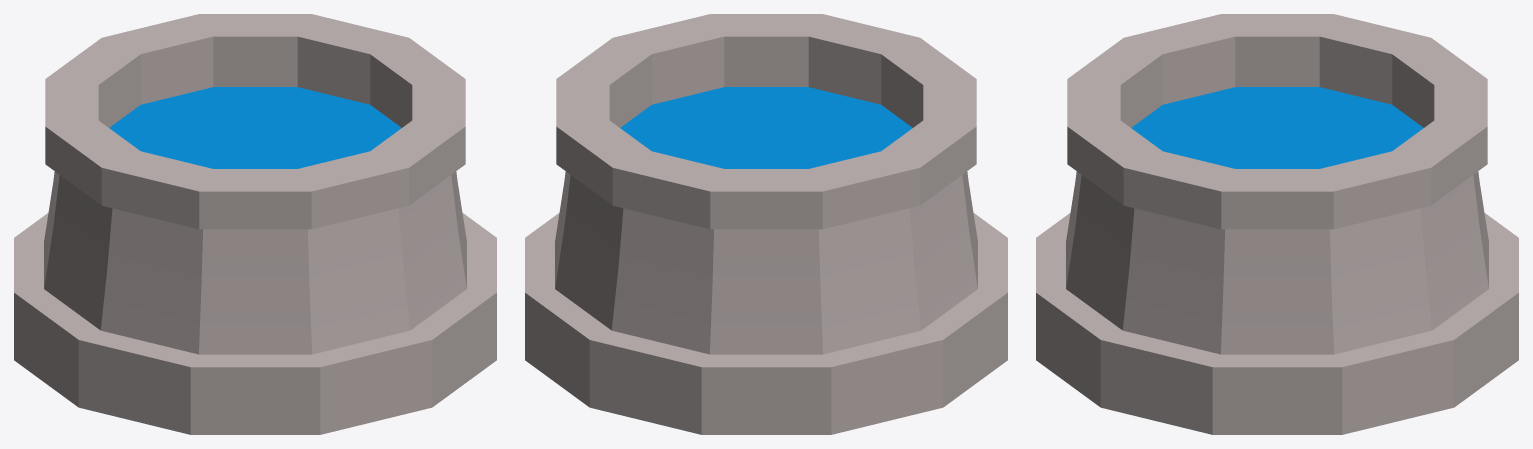
Rendered from Well_Greybox_FBX.fbx.
3 views of the same model, side by side, from view 1: azimuth 30°, elevation 25°; view 2: azimuth 150°, elevation 25°; view 3: azimuth 270°, elevation 25° (orthographic).
Parts seen in each view (by area): view 1: Well, Water1; view 2: Well, Water1; view 3: Well, Water1.
Boxes of the visible parts, x1,y1,x2,y2 form: Well: (14,14,496,434); Water1: (109,87,401,168); Well: (525,14,1007,434); Water1: (620,87,912,168); Well: (1036,14,1518,434); Water1: (1131,87,1423,168).
Bounding box in the file's own units: 1.83 × 0.9641 × 1.83.
